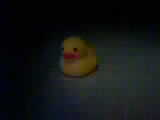duck: (57, 30, 95, 74)
